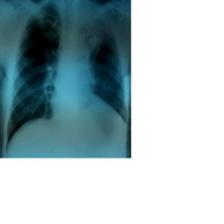tuberculosis: (3, 1, 130, 156)
